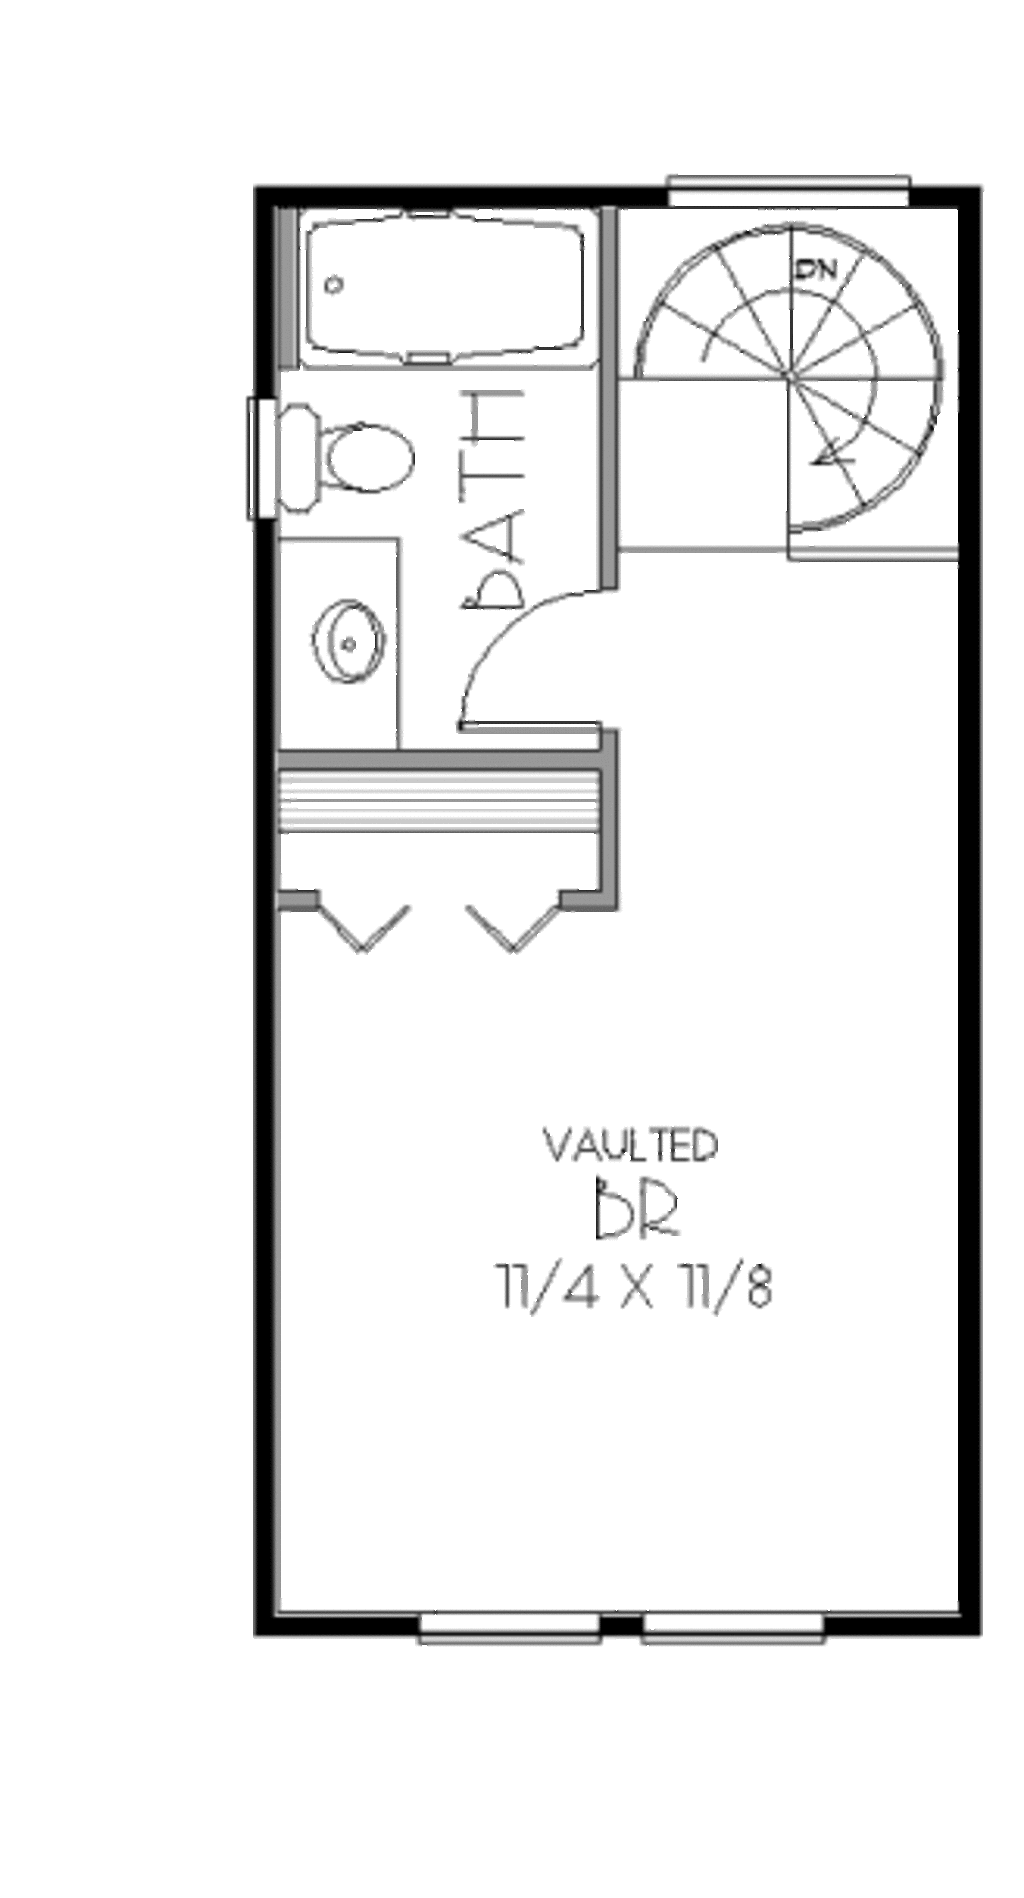door: (438, 573, 643, 757)
large_sink: (248, 381, 438, 528)
small_sink: (264, 533, 410, 740)
stairs: (619, 219, 955, 551)
tub: (281, 211, 610, 393)
window: (663, 160, 922, 216), (646, 1599, 834, 1657), (410, 1610, 602, 1646)
